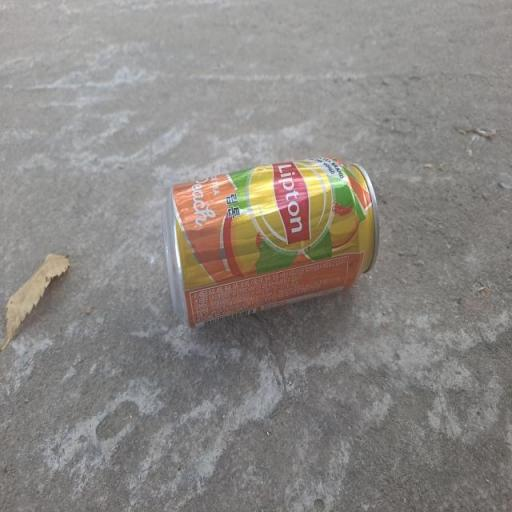metal: (132, 128, 437, 358)
